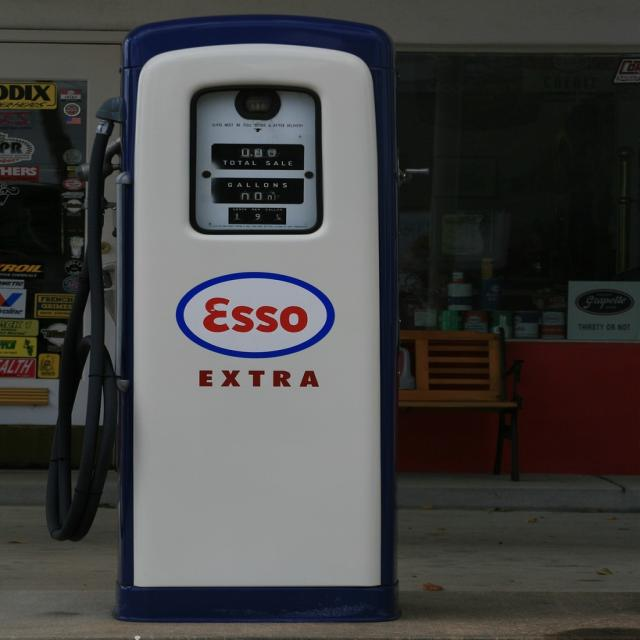esso: (171, 271, 342, 361)
